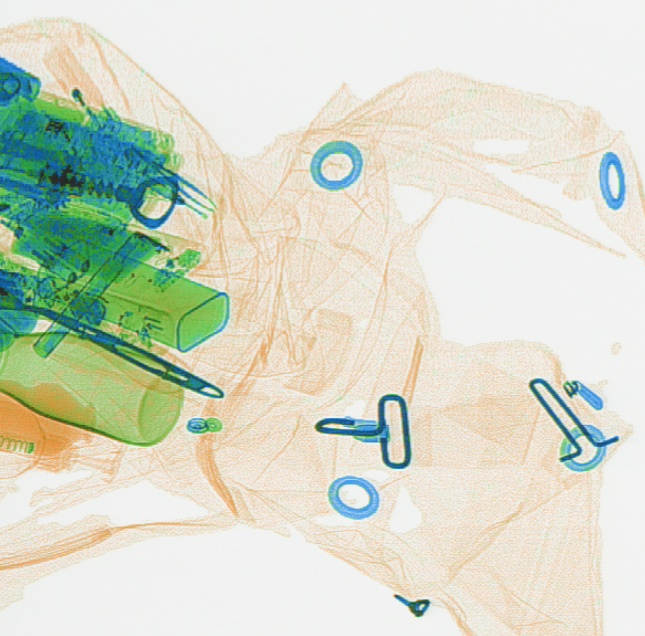lighter: (40, 39, 121, 139)
zippooil: (34, 240, 229, 351)
